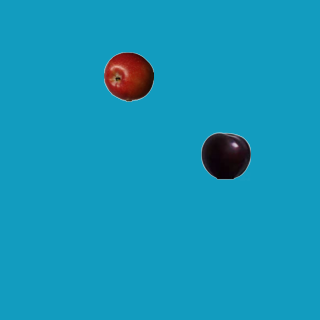Apple Braeburn: (103, 51, 153, 101)
Cherry Wax Black: (200, 130, 250, 180)
